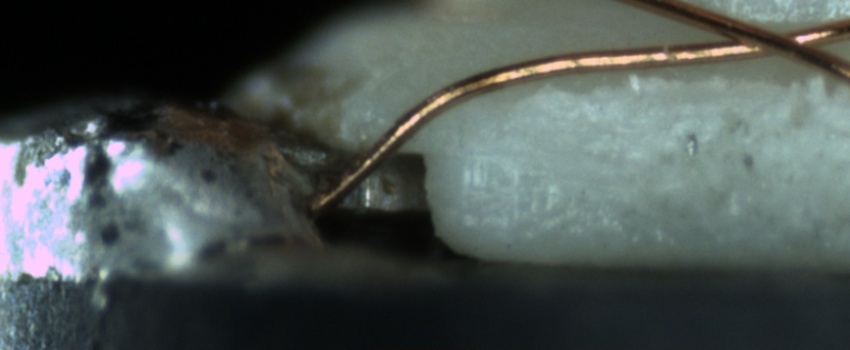CL: (681, 12, 845, 63)
DL: (458, 136, 532, 184)
